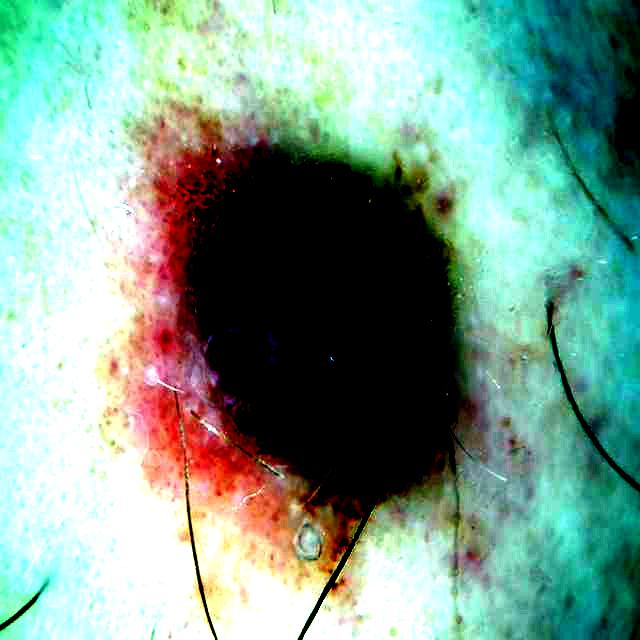VASC: (203, 166, 435, 445)
